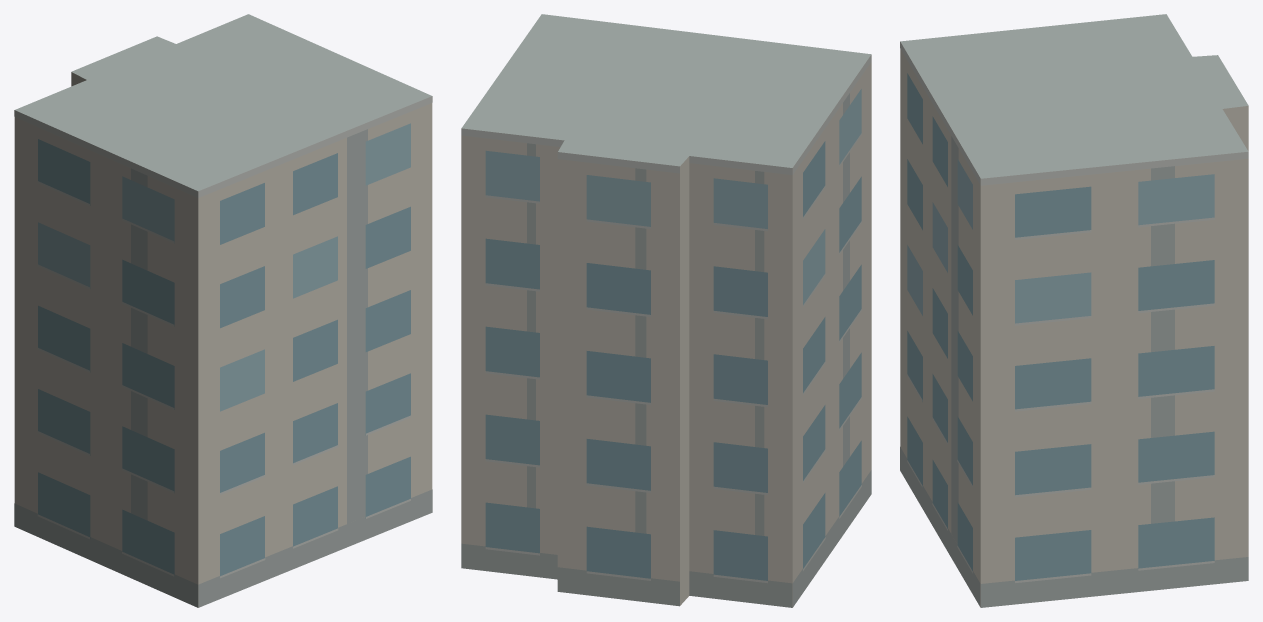
The model's file is survey-upis-32803619.glb.
3 views of the same model, side by side, from view 1: azimuth 30°, elevation 25°; view 2: azimuth 150°, elevation 25°; view 3: azimuth 270°, elevation 25° (orthographic). The views are drawn at different scales.
Parts seen in each view (by area): view 1: survey-upis-32803619.tmp; view 2: survey-upis-32803619.tmp; view 3: survey-upis-32803619.tmp.
Boxes of the visible parts, x1,y1,x2,y2 form: survey-upis-32803619.tmp: [14, 14, 432, 607]; survey-upis-32803619.tmp: [461, 14, 871, 607]; survey-upis-32803619.tmp: [900, 14, 1248, 607].
Size of the model in its own units: 12.36 by 15 by 11.05.
